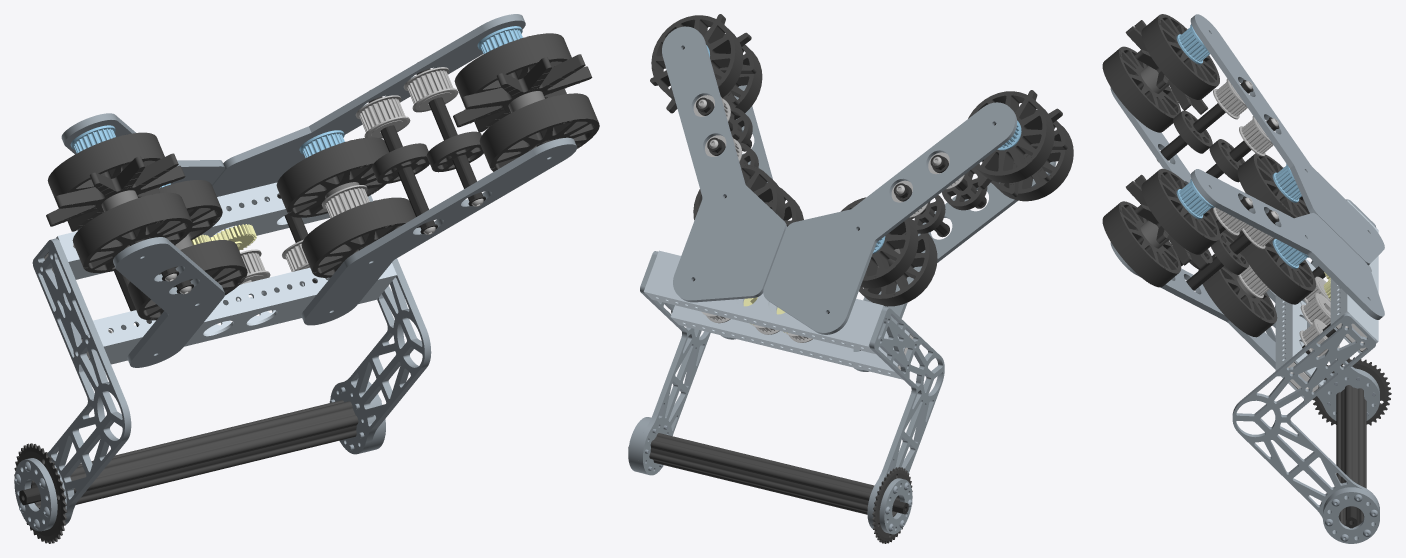
3 views of the same model, side by side, from view 1: azimuth 30°, elevation 25°; view 2: azimuth 150°, elevation 25°; view 3: azimuth 270°, elevation 25° (orthographic). The views are drawn at different scales.
Visible parts, largest first — view 1: WCP-1361 (×8), Part 4 (×2), Part 2 (×2), Part 3 (×2), SplineXL Tube (WCP-0918), Part 1 (×2), WCP-1356 (×2), 24t 15mm Wide 1/2" Hex Bore Double Flange 5mm HTD Aluminum P (×3), 2" OD 30A Thrifty Squish Wheel (TTB-0032) (×2), Shaft (×2), 12t 8mm Keyed Pulley HTD - 24T HTD Pulley 18.5mm Wide (×3), Part 9 (+1 smaller); view 2: Part 1 (×2), WCP-1361 (×7), Part 4 (×2), Part 3 (×2), SplineXL Tube (WCP-0918), Part 2 (×2), 2" OD 30A Thrifty Squish Wheel (TTB-0032) (×3), WCP-1356 (×2), Part 9, 42t Aluminum Plate Sprocket (#25 Chain, SplineXL Bore); view 3: WCP-1361 (×7), Part 1 (×2), Part 4 (×2), 24t 15mm Wide 1/2" Hex Bore Double Flange 5mm HTD Aluminum P (×7), Part 2 (×4), Part 3 (×2), SplineXL Tube (WCP-0918), 12t 8mm Keyed Pulley HTD - 24T HTD Pulley 18.5mm Wide (×4), 2" OD 30A Thrifty Squish Wheel (TTB-0032) (×3), WCP-1356 (×2), Shaft (×3), Part 9 (+1 smaller).
Boxes of the visible parts, x1=… form: WCP-1361 (×8): x1=47, y1=33, x2=599, y2=320; Part 4 (×2): x1=32, y1=195, x2=431, y2=524; Part 2 (×2): x1=113, y1=137, x2=577, y2=367; Part 3 (×2): x1=56, y1=182, x2=396, y2=365; SplineXL Tube (WCP-0918): x1=31, y1=400, x2=358, y2=508; Part 1 (×2): x1=61, y1=14, x2=525, y2=230; WCP-1356 (×2): x1=46, y1=54, x2=592, y2=231; 24t 15mm Wide 1/2" Hex Bore Double Flange 5mm HTD Aluminum P (×3): x1=321, y1=67, x2=458, y2=218; 2" OD 30A Thrifty Squish Wheel (TTB-0032) (×2): x1=372, y1=131, x2=483, y2=183; Shaft (×2): x1=368, y1=62, x2=485, y2=234; 12t 8mm Keyed Pulley HTD - 24T HTD Pulley 18.5mm Wide (×3): x1=70, y1=26, x2=522, y2=158; Part 9: x1=14, y1=458, x2=57, y2=531; Part 1 (×2): x1=662, y1=26, x2=1017, y2=334; WCP-1361 (×7): x1=651, y1=15, x2=1073, y2=306; Part 4 (×2): x1=638, y1=251, x2=944, y2=528; Part 3 (×2): x1=643, y1=250, x2=910, y2=379; SplineXL Tube (WCP-0918): x1=649, y1=433, x2=899, y2=516; Part 2 (×2): x1=720, y1=85, x2=1056, y2=371; 2" OD 30A Thrifty Squish Wheel (TTB-0032) (×3): x1=729, y1=107, x2=987, y2=233; WCP-1356 (×2): x1=650, y1=14, x2=1067, y2=196; Part 9: x1=879, y1=478, x2=912, y2=534; 42t Aluminum Plate Sprocket (#25 Chain, SplineXL Bore): x1=872, y1=467, x2=912, y2=543; WCP-1361 (×7): x1=1102, y1=14, x2=1315, y2=337; Part 1 (×2): x1=1190, y1=14, x2=1384, y2=319; Part 4 (×2): x1=1232, y1=199, x2=1379, y2=517; 24t 15mm Wide 1/2" Hex Bore Double Flange 5mm HTD Aluminum P (×7): x1=1213, y1=78, x2=1339, y2=357; Part 2 (×4): x1=1110, y1=65, x2=1275, y2=369; Part 3 (×2): x1=1275, y1=199, x2=1378, y2=398; SplineXL Tube (WCP-0918): x1=1336, y1=385, x2=1366, y2=525; 12t 8mm Keyed Pulley HTD - 24T HTD Pulley 18.5mm Wide (×4): x1=1176, y1=24, x2=1309, y2=268; 2" OD 30A Thrifty Squish Wheel (TTB-0032) (×3): x1=1173, y1=110, x2=1248, y2=274; WCP-1356 (×2): x1=1125, y1=20, x2=1208, y2=269; Shaft (×3): x1=1156, y1=80, x2=1279, y2=290; Part 9: x1=1322, y1=489, x2=1379, y2=543.
Bounding box in the file's own units: 0.5301 × 0.4842 × 0.3197.
